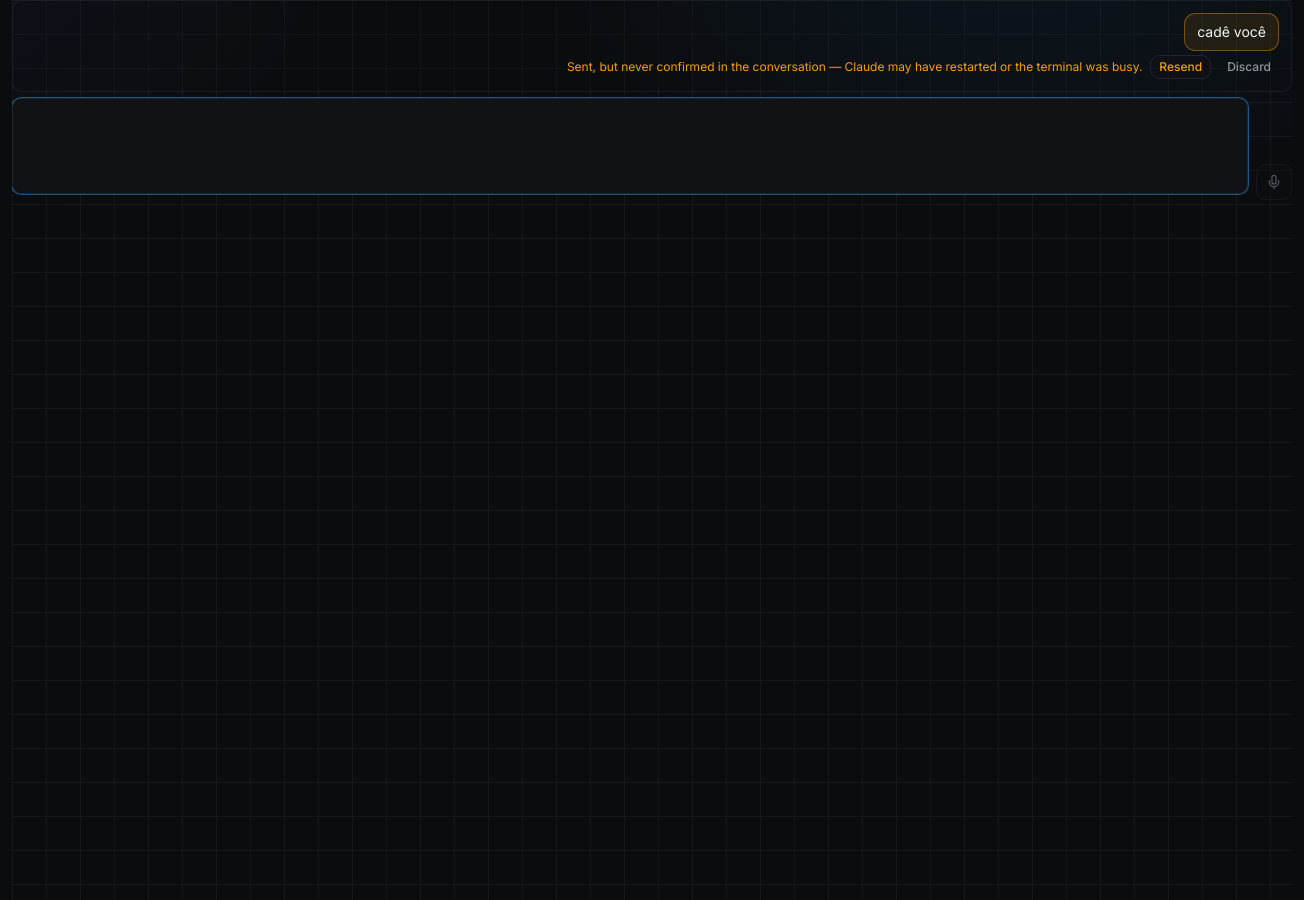
ChatView › an OVERDUE pending bubble stops claiming 'enviando' and offers Resend / Discard
The image size is (1304, 900).
Expected: the element with test id "chat-pending-stuck" shows "cadê você", [1197, 23, 1266, 40]
Expected: the text "sending" is not shown
# Resend: the same words go to the server again, as a fresh send.
Click the button with test id "chat-pending-resend": (1181, 67) [1150, 55, 1211, 79]
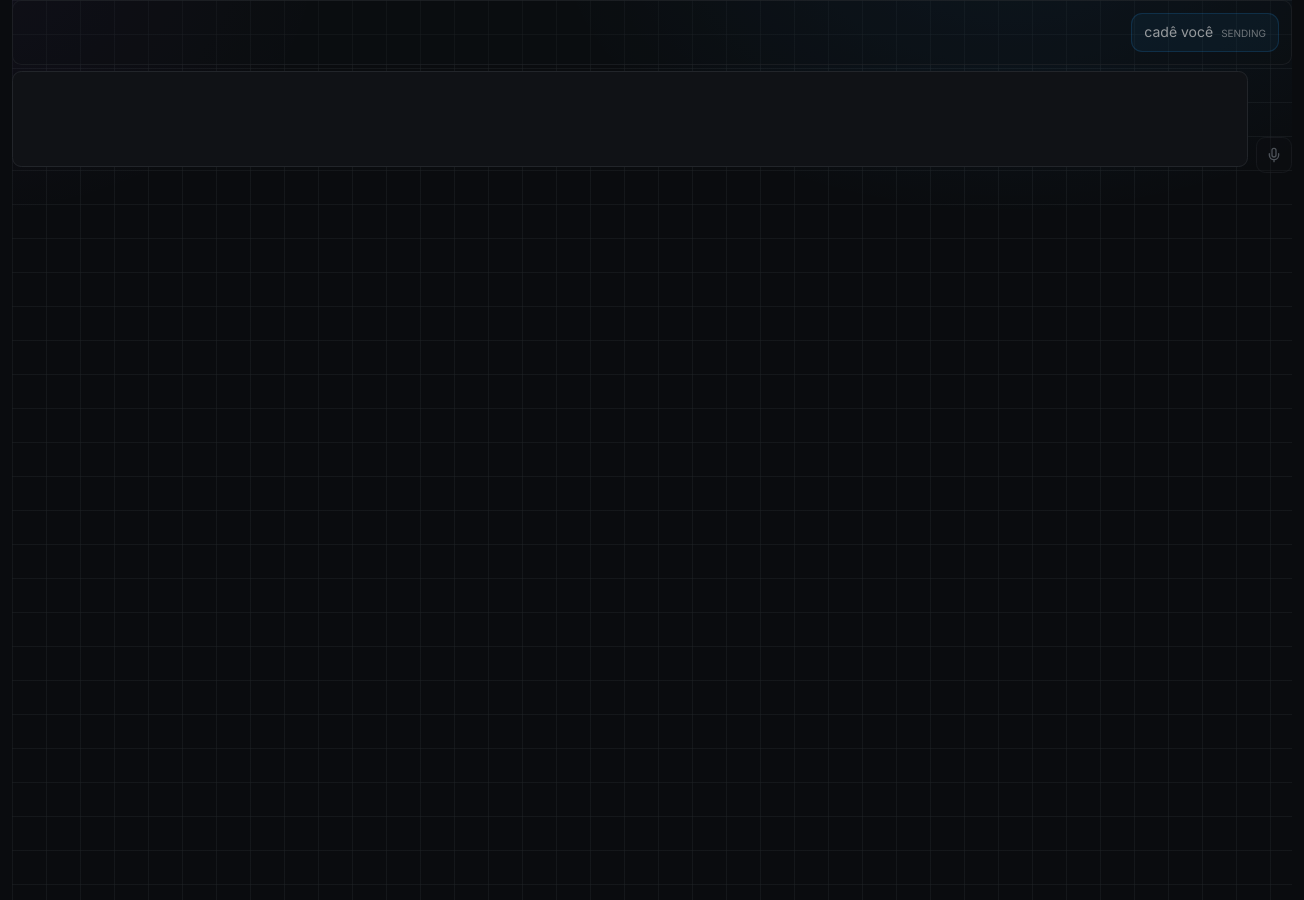
Result: the element with test id "chat-pending-stuck" is gone
Result: the text "cadê você" is shown at [1144, 23, 1213, 40]
